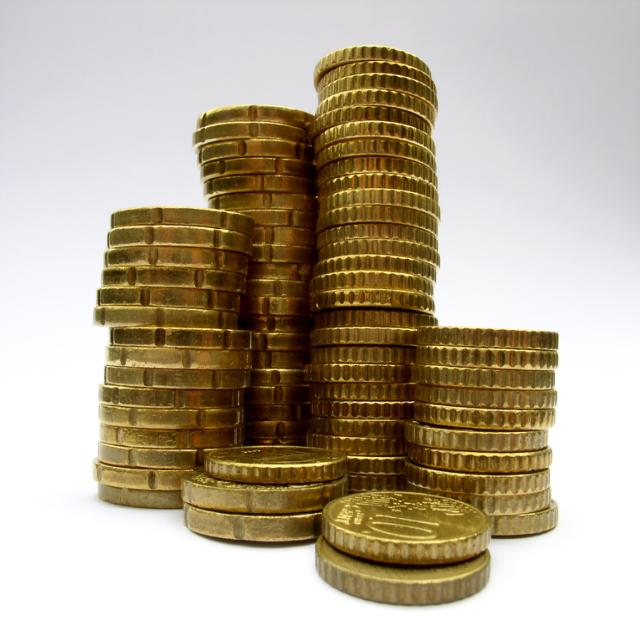Coin: (90, 39, 557, 601)
